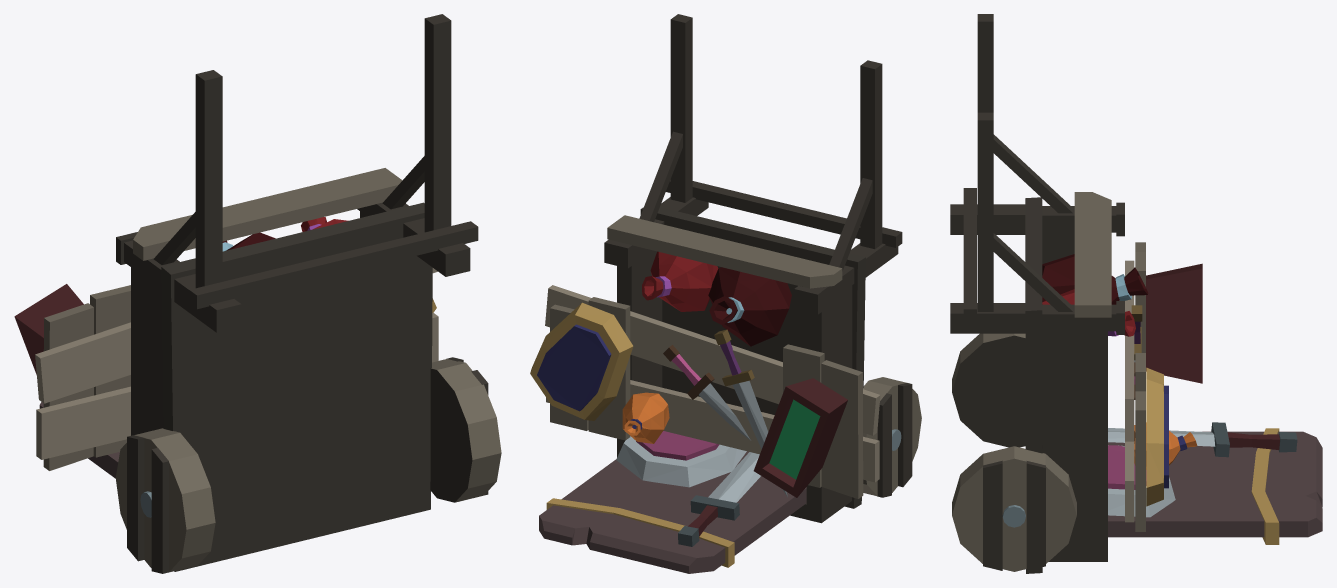
Rendered from Wagon 02.FBX.
3 views of the same model, side by side, from view 1: azimuth 30°, elevation 25°; view 2: azimuth 150°, elevation 25°; view 3: azimuth 270°, elevation 25° (orthographic). The views are drawn at different scales.
Visible parts, largest first — view 1: Wagon 02; view 2: Wagon 02; view 3: Wagon 02.
Part boxes in pixels (x1=…): Wagon 02: x1=14, y1=14, x2=501, y2=573; Wagon 02: x1=530, y1=14, x2=921, y2=573; Wagon 02: x1=950, y1=14, x2=1322, y2=573.
Size of the model in its own units: 239 by 214 by 286.
